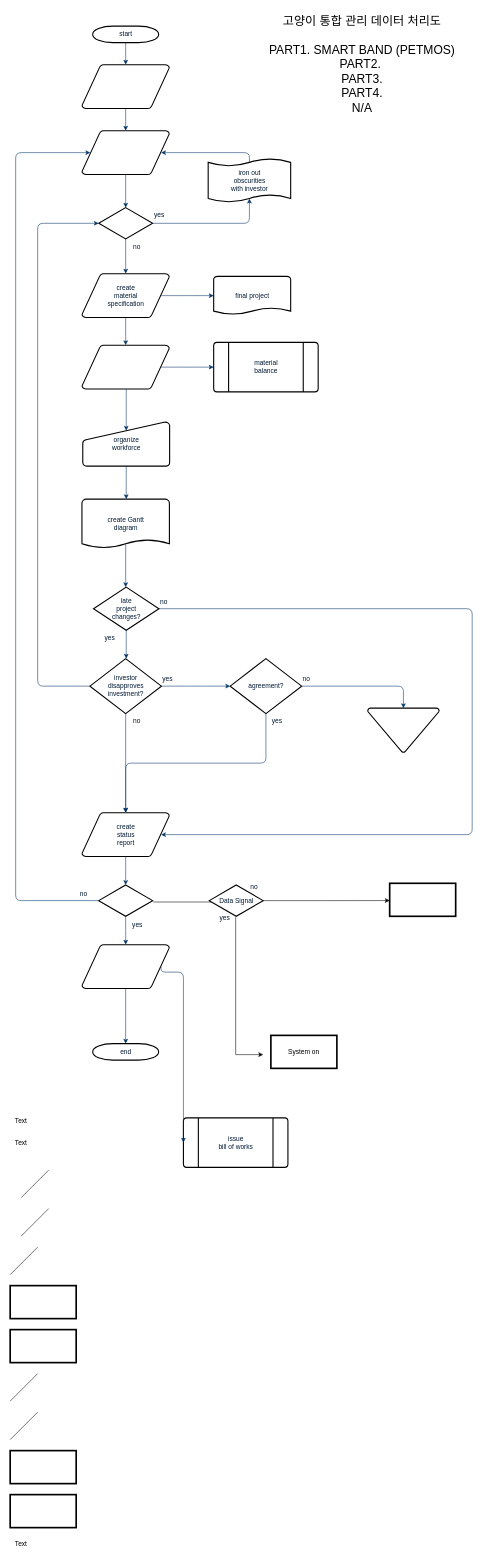
Image size: 486x1559. Some labels were removed from this diagram. Here are the shapes that lost their labels. From the top down, the centre of each, then its label:
At point 125,86: "Module Select".
At point 125,152: "Send Signal".
At point 125,223: "Use?".
At point 125,366: "order material".
At point 403,730: "terminate contract".
At point 125,900: "project complete?".
At point 422,899: "System End".
At point 125,966: "create final report".
